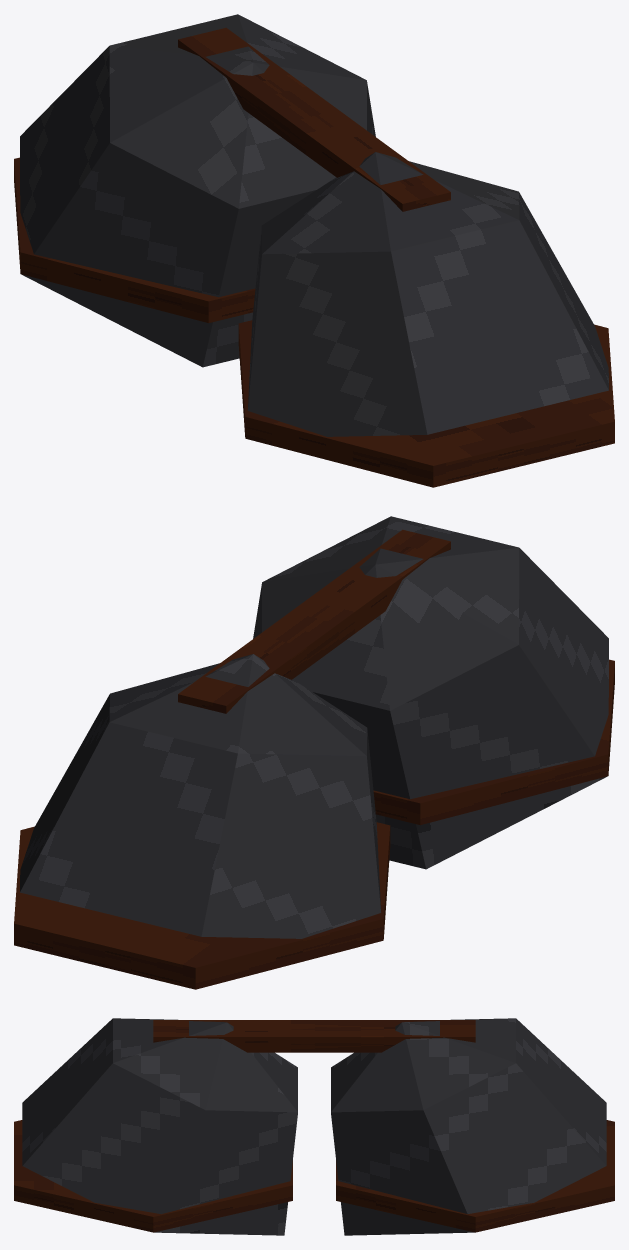
The model's file is escamas_hierro.glb.
3 views of the same model, one above another, from view 1: azimuth 30°, elevation 25°; view 2: azimuth 150°, elevation 25°; view 3: azimuth 270°, elevation 25° (orthographic). The views are drawn at different scales.
Parts seen in each view (by area): view 1: hombrera_der, hombrera_izq, borde_der, correa, borde_izq; view 2: hombrera_izq, hombrera_der, borde_izq, correa, borde_der; view 3: hombrera_izq, hombrera_der, correa, borde_izq, borde_der.
Part boxes in pixels (x1,y1,x2,y2): hombrera_der: (247, 152, 608, 436); hombrera_izq: (20, 14, 375, 367); borde_der: (238, 320, 614, 487); correa: (178, 27, 450, 211); borde_izq: (14, 157, 255, 323); hombrera_izq: (20, 654, 381, 938); hombrera_der: (253, 516, 608, 869); borde_izq: (14, 822, 390, 989); correa: (178, 529, 450, 713); borde_der: (373, 659, 614, 825); hombrera_izq: (331, 1018, 606, 1235); hombrera_der: (22, 1018, 297, 1235); correa: (153, 1020, 475, 1052); borde_izq: (336, 1120, 614, 1232); borde_der: (14, 1120, 292, 1232).
Bounding box in the file's own units: 0.3 × 0.2 × 0.6.
Materials: 1 (1 with a texture image).
